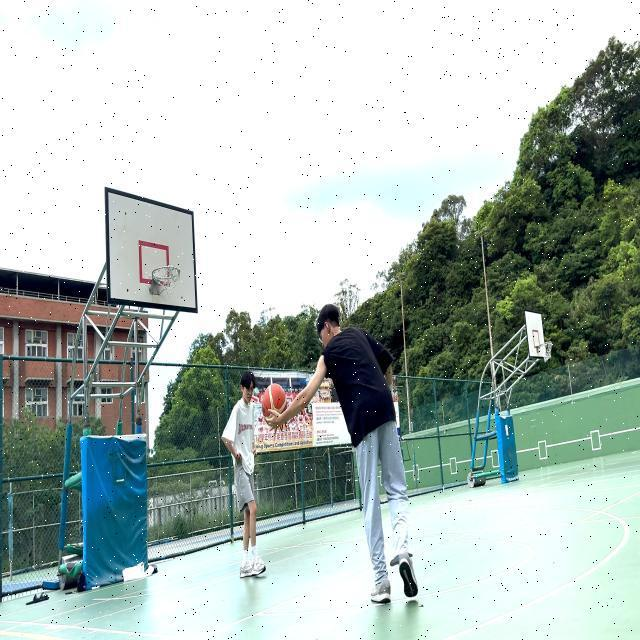ball: (262, 383, 288, 426)
hoop: (150, 262, 186, 285), (538, 340, 552, 353)
